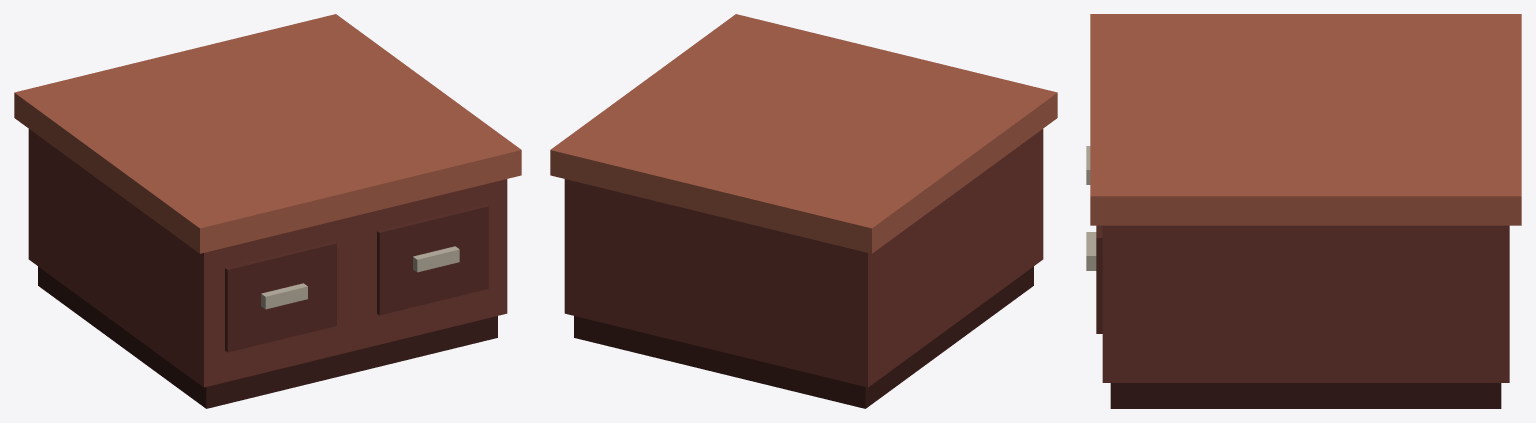
The model's file is k_ember_counter.glb.
The picture shows the model from 3 angles, left to right: view 1: azimuth 30°, elevation 25°; view 2: azimuth 150°, elevation 25°; view 3: azimuth 270°, elevation 25°; orthographic projection. The views are drawn at different scales.
Visible parts, largest first — view 1: piece; view 2: piece; view 3: piece.
Boxes of the visible parts, x1,y1,x2,y2 form: piece: [14, 14, 521, 408]; piece: [550, 14, 1057, 408]; piece: [1086, 14, 1521, 408].
Bounding box in the file's own units: 1.06 × 0.6 × 1.07.
